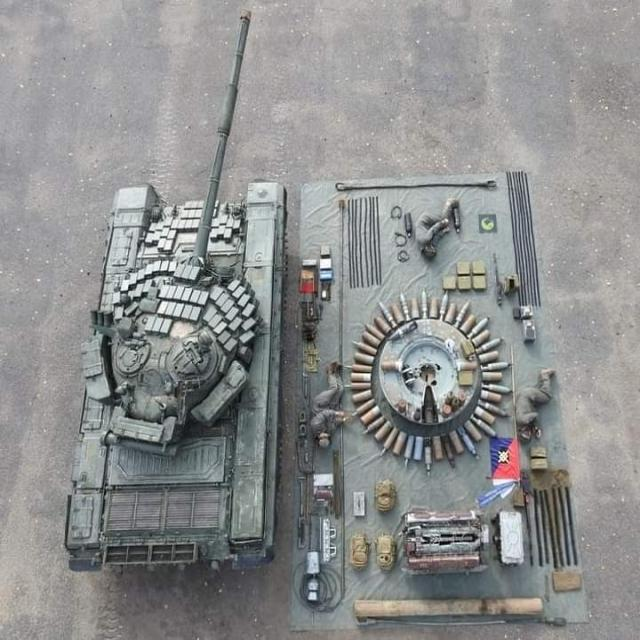tank: (286, 168, 582, 640), (68, 8, 287, 570)
